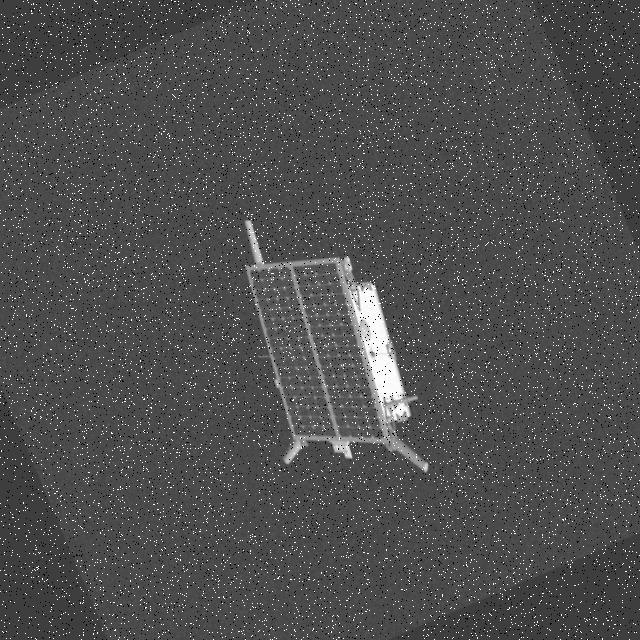medium_debris: (226, 202, 436, 484)
